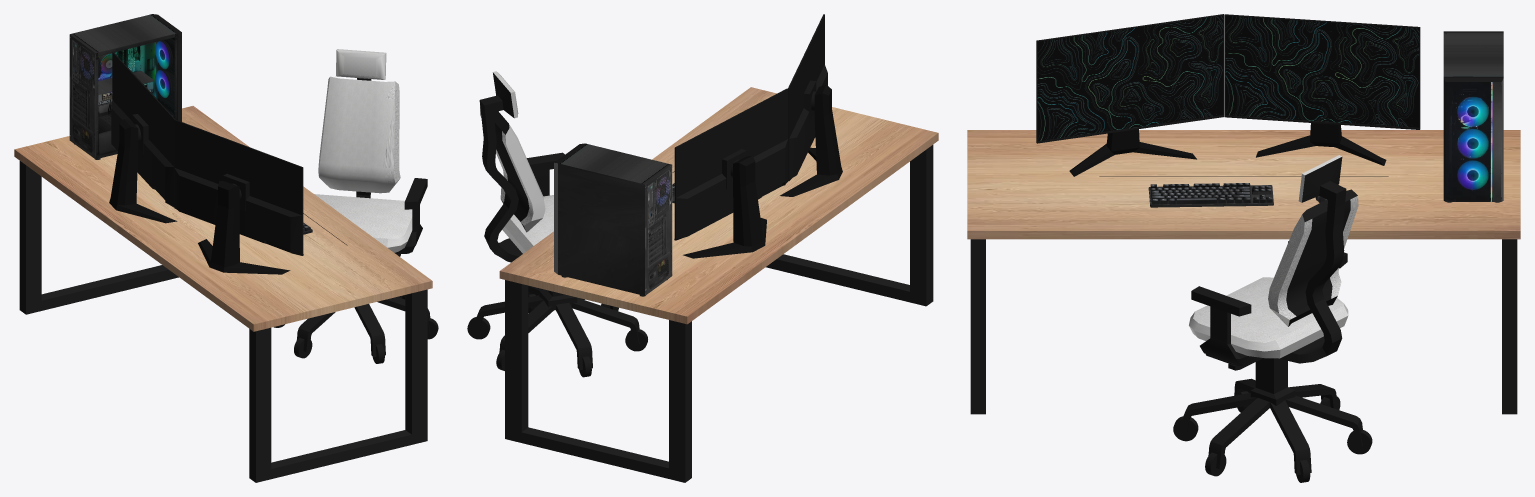
File: gaming_setup_low-poly-transformed.glb
3 views of the same model, side by side, from view 1: azimuth 30°, elevation 25°; view 2: azimuth 150°, elevation 25°; view 3: azimuth 270°, elevation 25° (orthographic). The views are drawn at different scales.
Parts seen in each view (by area): view 1: Object_4, Object_12, Object_6, Object_29, Object_8, Object_15, Object_28, Object_9, Object_10; view 2: Object_4, Object_6, Object_12, Object_8, Object_28, Object_15, Object_29, Object_9; view 3: Object_4, Object_13, Object_28, Object_29, Object_10, Object_6, Object_15, Object_8, Object_22, Object_12.
Boxes of the visible parts, box(x1,y1,x2,y2) form: Object_4: box(14, 106, 432, 331); Object_12: box(111, 52, 303, 255); Object_6: box(19, 161, 427, 482); Object_29: box(314, 49, 412, 252); Object_8: box(70, 14, 181, 159); Object_15: box(109, 119, 290, 274); Object_28: box(273, 78, 438, 363); Object_9: box(69, 34, 95, 158); Object_10: box(98, 40, 172, 98); Object_4: box(499, 87, 938, 324); Object_6: box(505, 145, 933, 482); Object_12: box(674, 14, 827, 240); Object_8: box(554, 143, 671, 296); Object_28: box(467, 73, 647, 377); Object_15: box(683, 84, 842, 258); Object_29: box(480, 71, 553, 253); Object_9: box(645, 165, 672, 295); Object_4: box(967, 130, 1520, 239); Object_13: box(1037, 15, 1419, 141); Object_28: box(1173, 157, 1372, 482); Object_29: box(1189, 155, 1358, 358); Object_10: box(1445, 78, 1503, 201); Object_6: box(970, 239, 1517, 414); Object_15: box(1069, 123, 1386, 176); Object_8: box(1443, 31, 1503, 202); Object_22: box(1148, 183, 1273, 207); Object_12: box(1036, 14, 1420, 143).
Bounding box in the file's own units: 1.79 × 1.56 × 2.45.
Materials: 13 (8 with a texture image).
